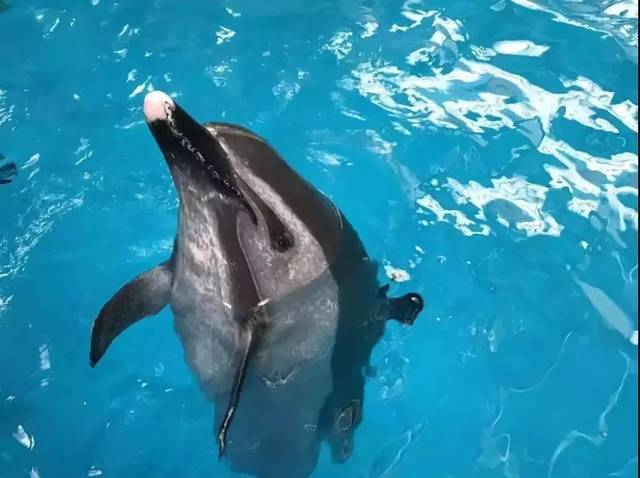fish: (84, 80, 424, 478)
